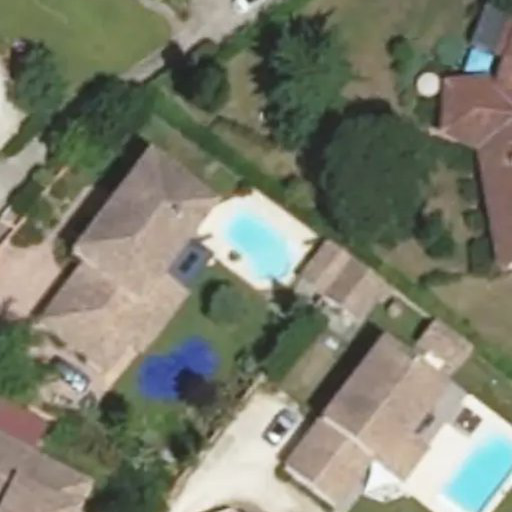pool: (212, 227, 302, 258)
